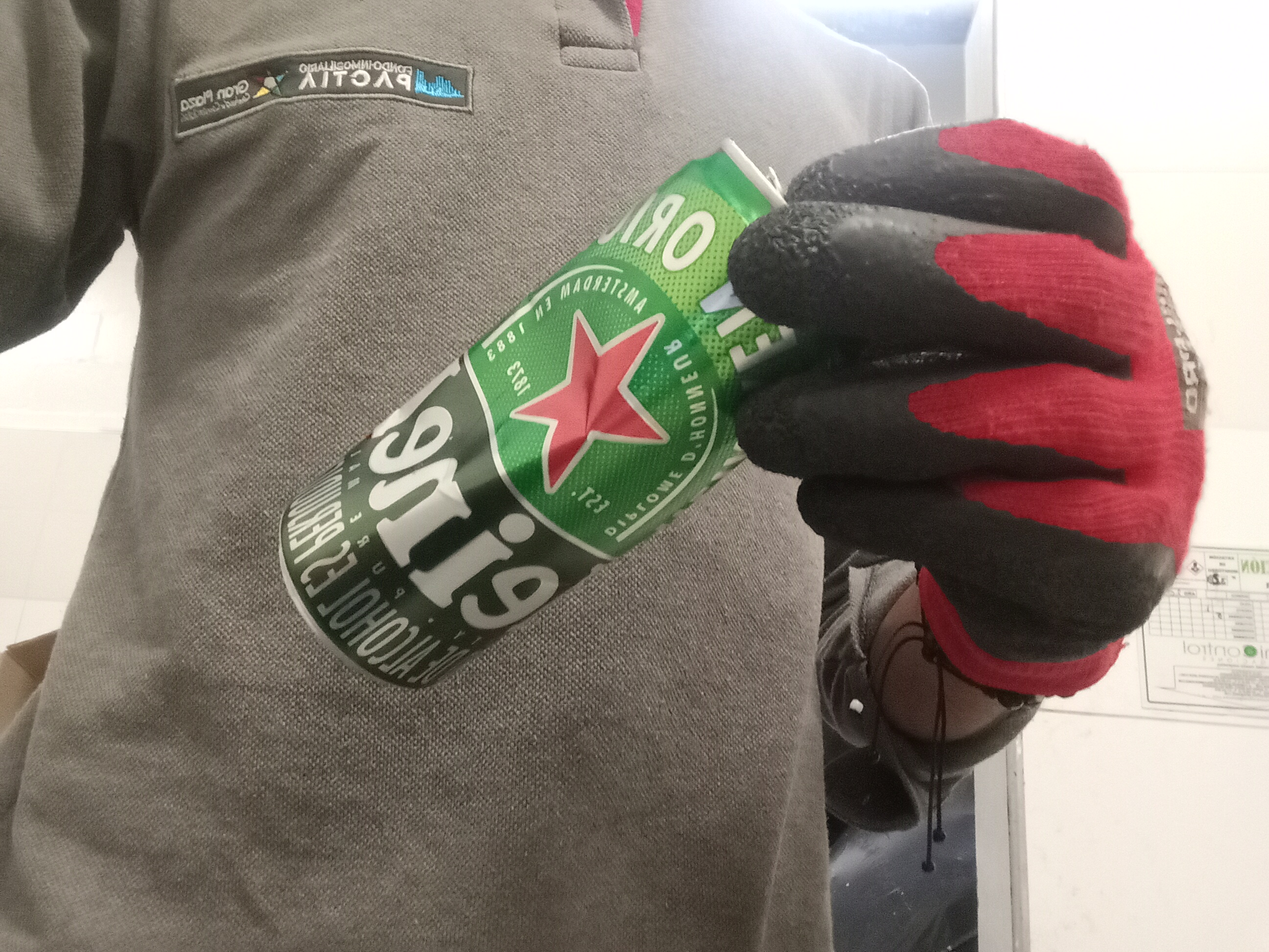Metal: (273, 139, 815, 696)
